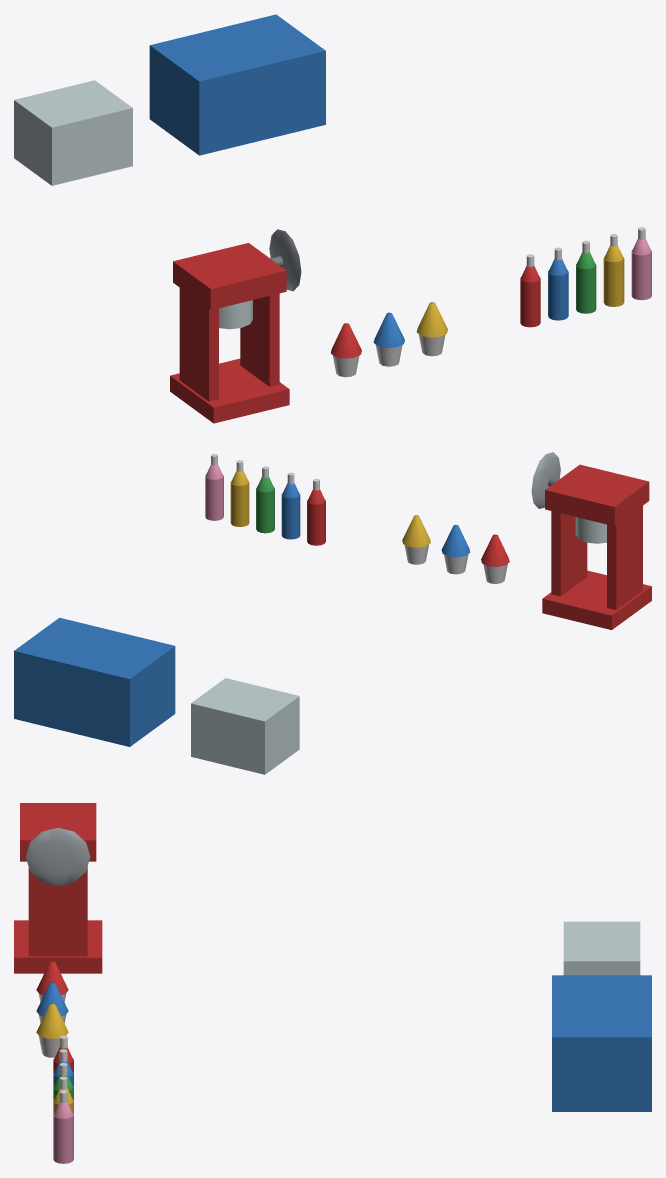
File: goods_shavedIce.glb
3 renders of one model, top to bottom at view 1: azimuth 30°, elevation 25°; view 2: azimuth 150°, elevation 25°; view 3: azimuth 270°, elevation 25°, orthographic. The views are drawn at different scales.
Parts seen in each view (by area): view 1: goods_shavedIce; view 2: goods_shavedIce; view 3: goods_shavedIce.
Part boxes in pixels (<box>): goods_shavedIce: <box>14,14,651,423</box>; goods_shavedIce: <box>14,452,651,774</box>; goods_shavedIce: <box>14,803,651,1163</box>.
Bounding box in the file's own units: 1.82 × 0.5832 × 2.17.
